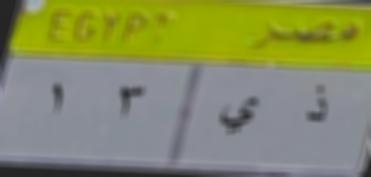1: (39, 74, 78, 120)
3: (110, 73, 160, 126)
yaa: (214, 88, 266, 138)
zaal: (301, 82, 338, 128)
